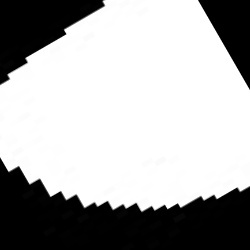spot: (2, 3, 247, 211)
